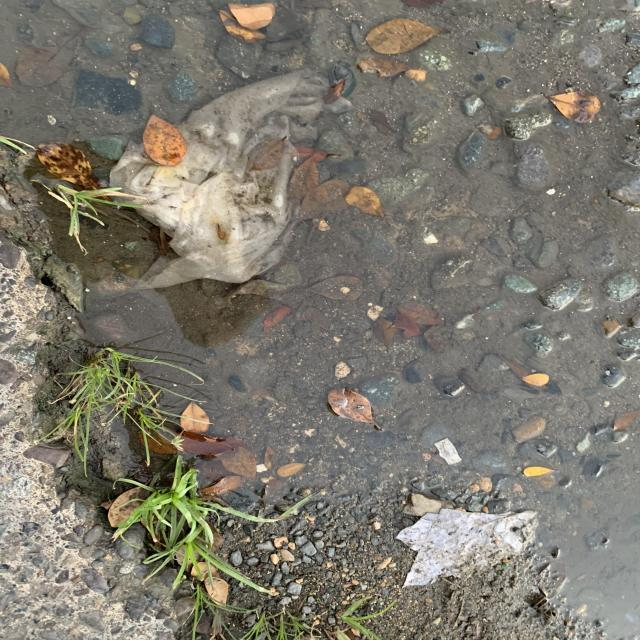litter: (108, 69, 357, 288), (395, 508, 537, 586)
